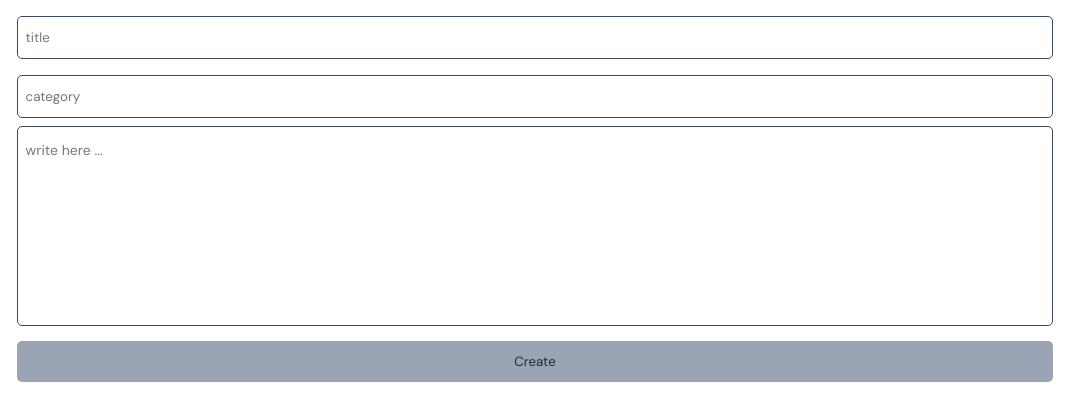
Test: Thread input component › should handle content typing correctly
This screenshot has width=1070, height=399.
Click the text box with test id "contentEditTest" at (535, 226), box [17, 126, 1053, 326]
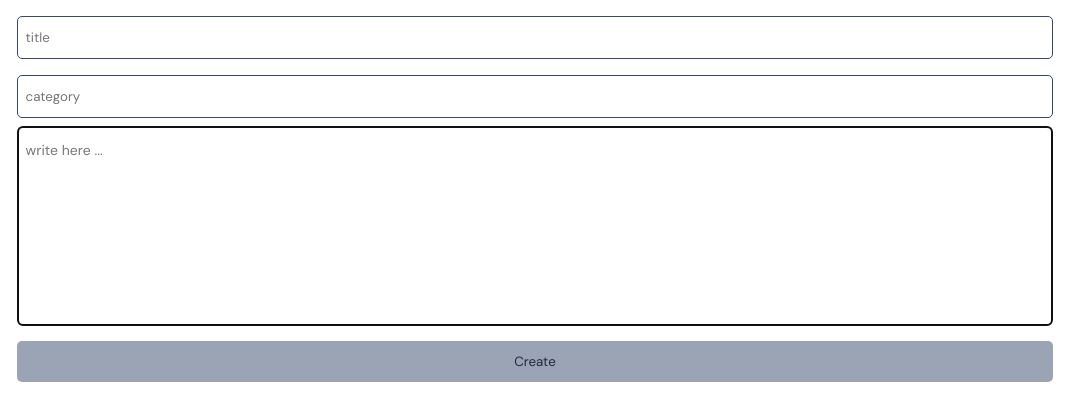
Type keys "contentTester"
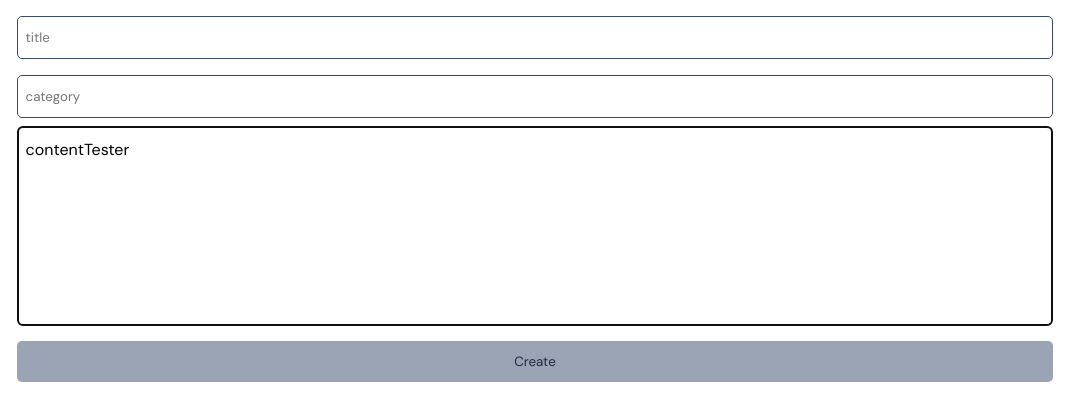
Expected: the text box with test id "contentEditTest" reads "contentTester", [17, 126, 1053, 326]
